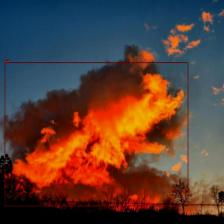fire: (4, 62, 188, 206)
